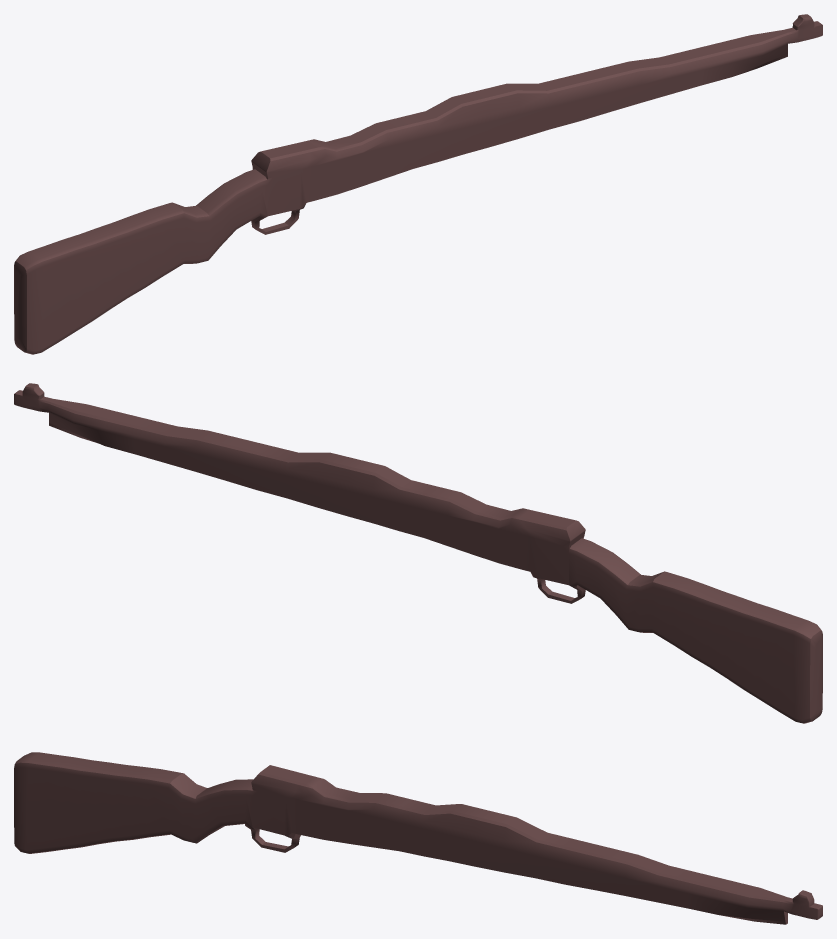
The picture shows the model from 3 angles, top to bottom: view 1: azimuth 30°, elevation 25°; view 2: azimuth 150°, elevation 25°; view 3: azimuth 330°, elevation 25°; orthographic projection.
Parts seen in each view (by area): view 1: pCube1; view 2: pCube1; view 3: pCube1.
Part boxes in pixels (box(x1,y1,x2,y2)): pCube1: box(14, 14, 822, 354); pCube1: box(14, 383, 822, 723); pCube1: box(14, 752, 822, 924).
Size of the model in its own units: 24.36 by 4.23 by 0.8107.
